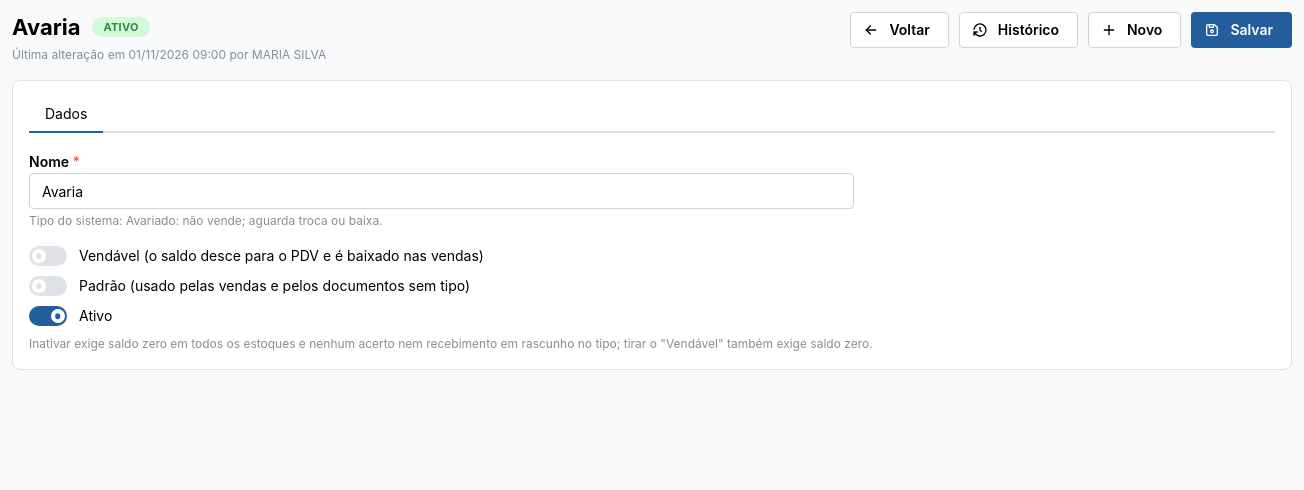
it: <FormularioTipoEstoque> (ERP 13.6) › mudar o vendável avisa da ressincronização e grava com a versão
Expected: the field showing "Avaria" is shown, x1=29 y1=173 x2=854 y2=209
Expected: the text "Os PDVs vão ressincronizar o estoque" is not shown
Click the switch labelled "Vendável (o saldo desce para o PDV e é baixado nas vendas)" at [256, 256], box x1=29 y1=246 x2=484 y2=266
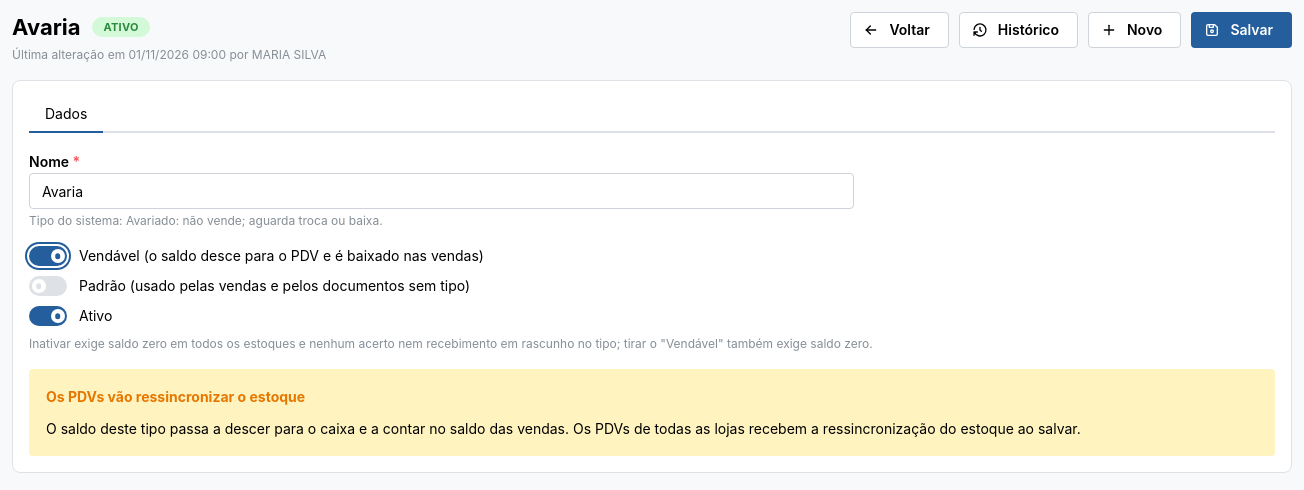
Expected: the text "Os PDVs vão ressincronizar o estoque" is shown, x1=46 y1=386 x2=305 y2=408
Expected: the text "passa a descer para o caixa" is shown, x1=46 y1=420 x2=569 y2=437
Click the button "Salvar" at [1242, 30], box x1=1191 y1=12 x2=1292 y2=48
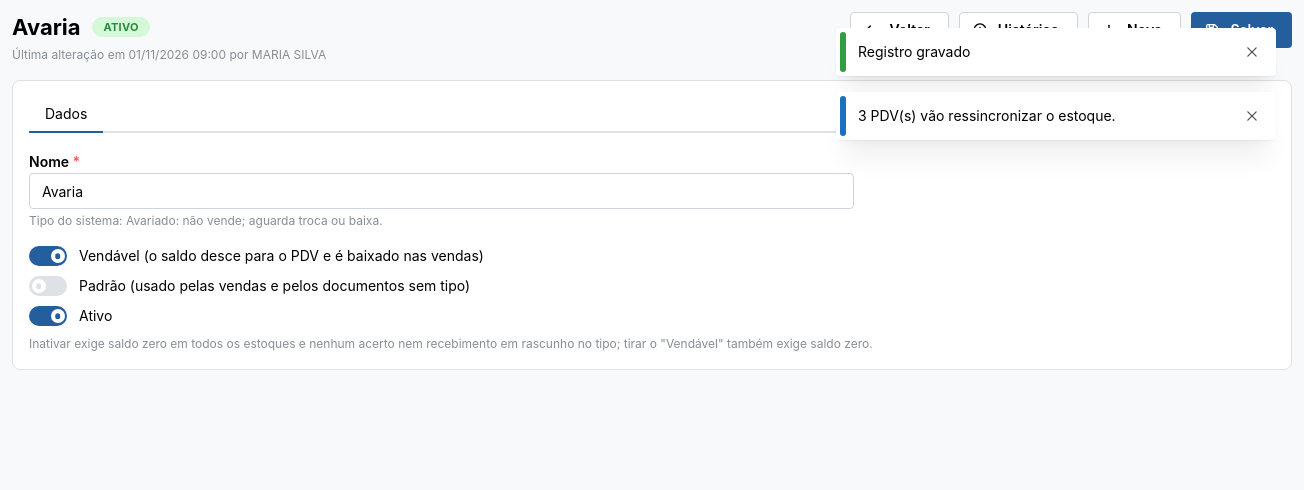
Expected: the text "3 PDV(s) vão ressincronizar o estoque." is shown, x1=858 y1=107 x2=1116 y2=124
